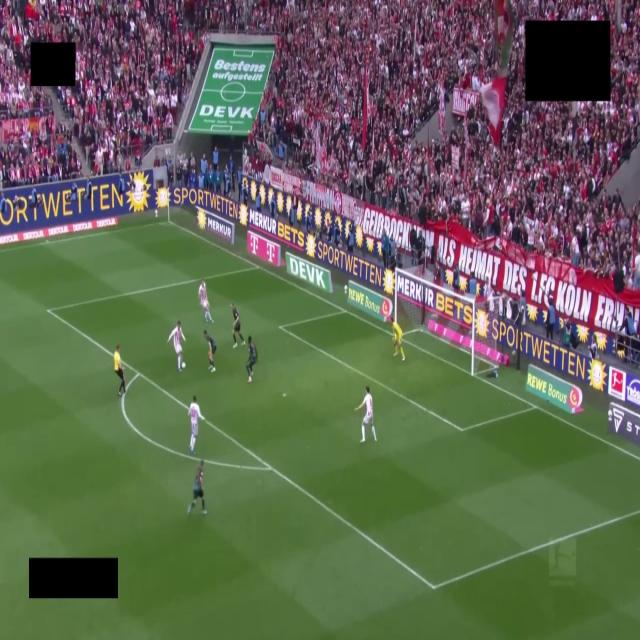ball: (181, 361, 186, 369)
player: (355, 386, 376, 442), (188, 461, 206, 514), (189, 396, 204, 455), (168, 321, 185, 371), (389, 317, 404, 360), (199, 280, 213, 323), (231, 303, 244, 348), (246, 336, 257, 383), (204, 330, 216, 372)
referee: (114, 344, 125, 396)
